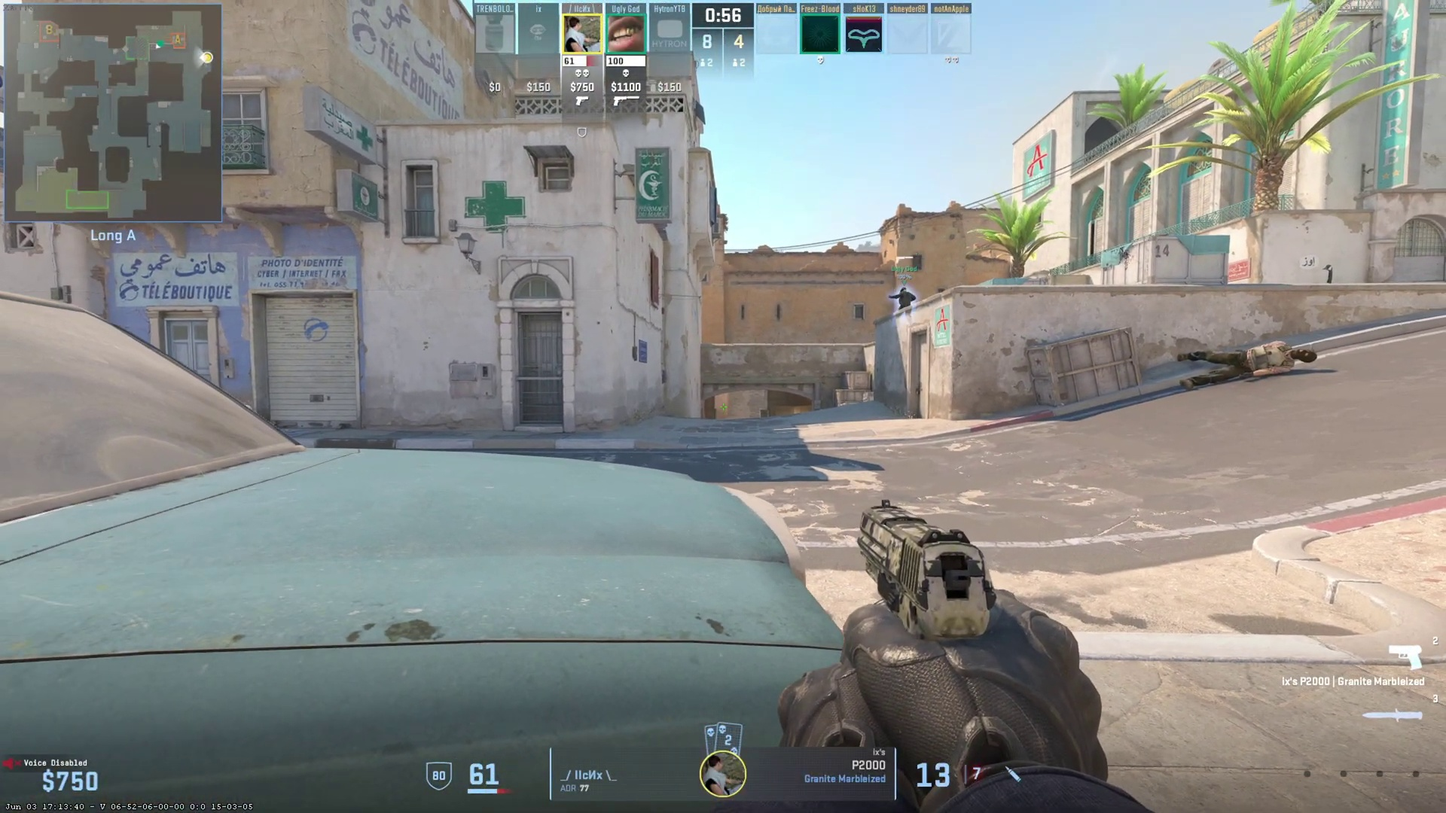CT: (894, 287, 912, 309)
